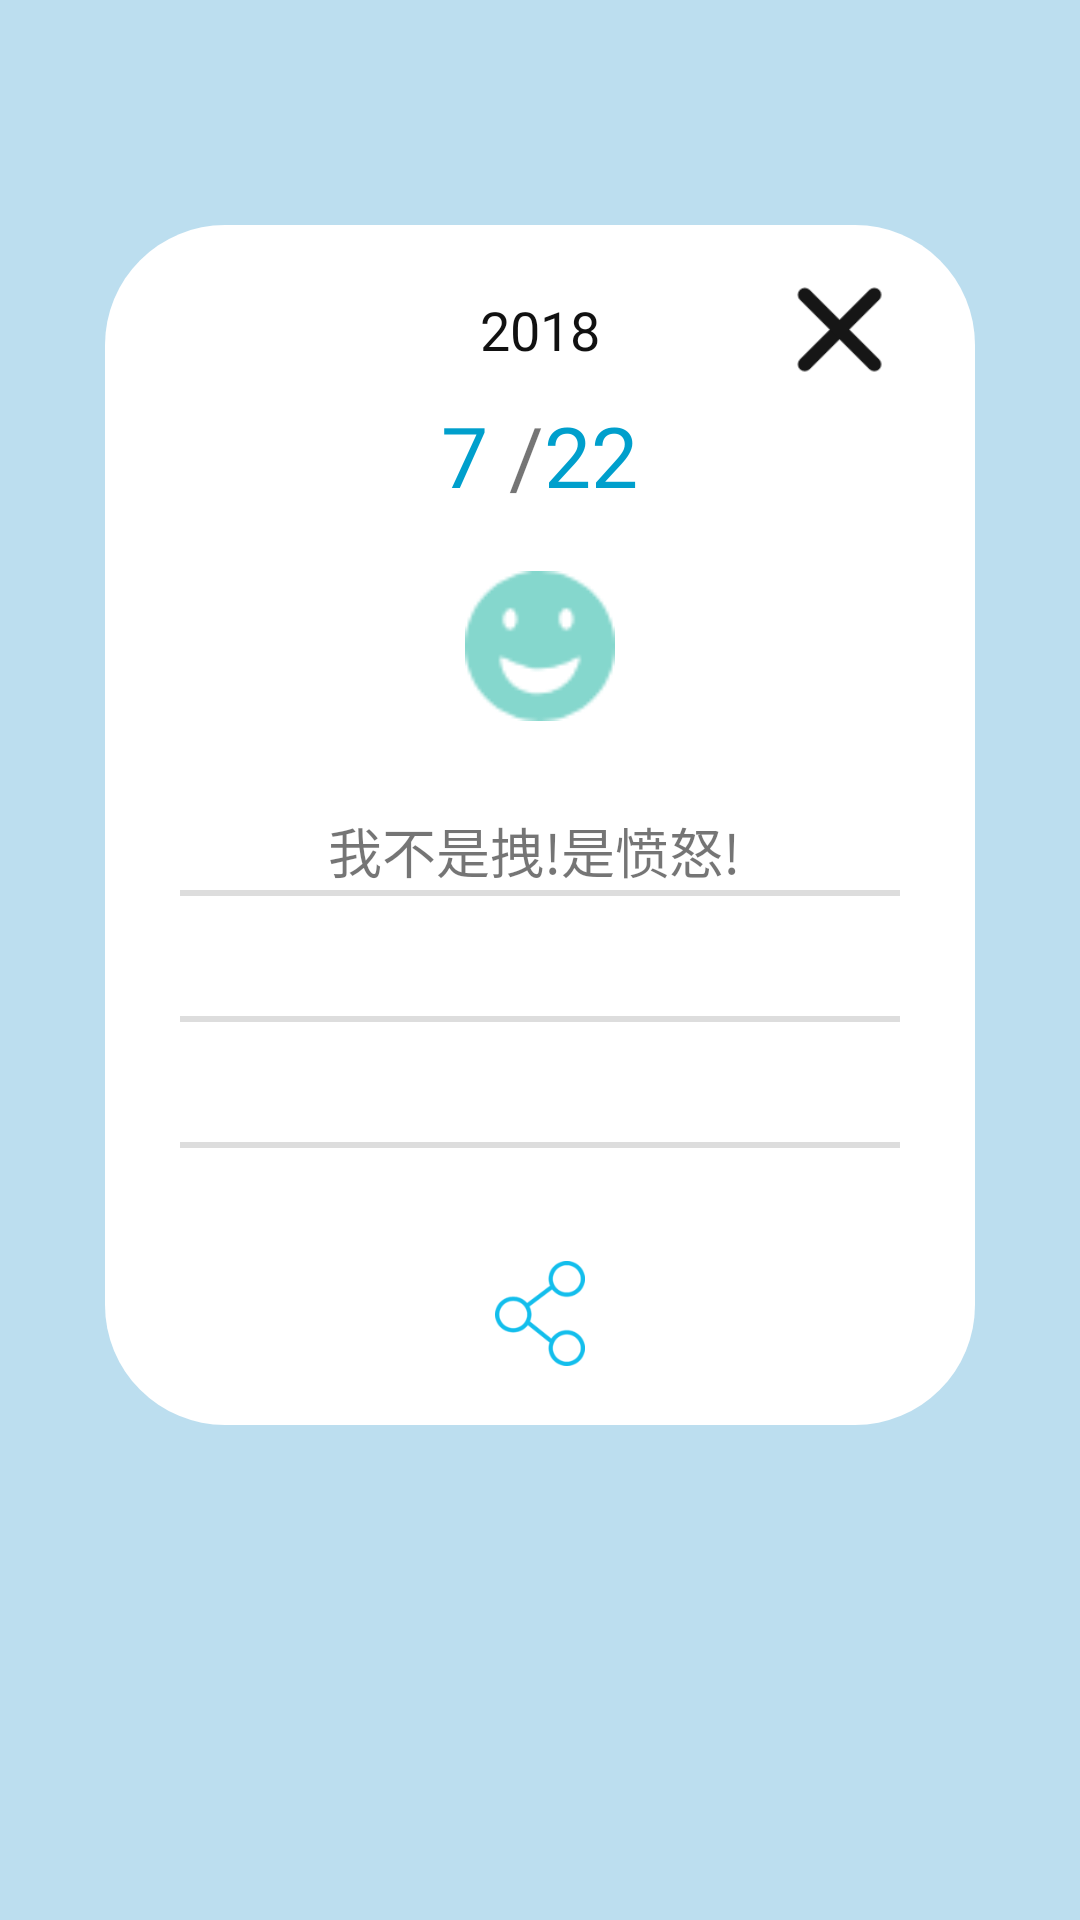

Named icons in this screenshot (1080px×1920px) and their bounding boxes, [x1, y1, x2, y2]:
emotionhappy: [465, 571, 615, 721]
share: [495, 1261, 585, 1366]
watchingexit: [797, 287, 882, 372]
